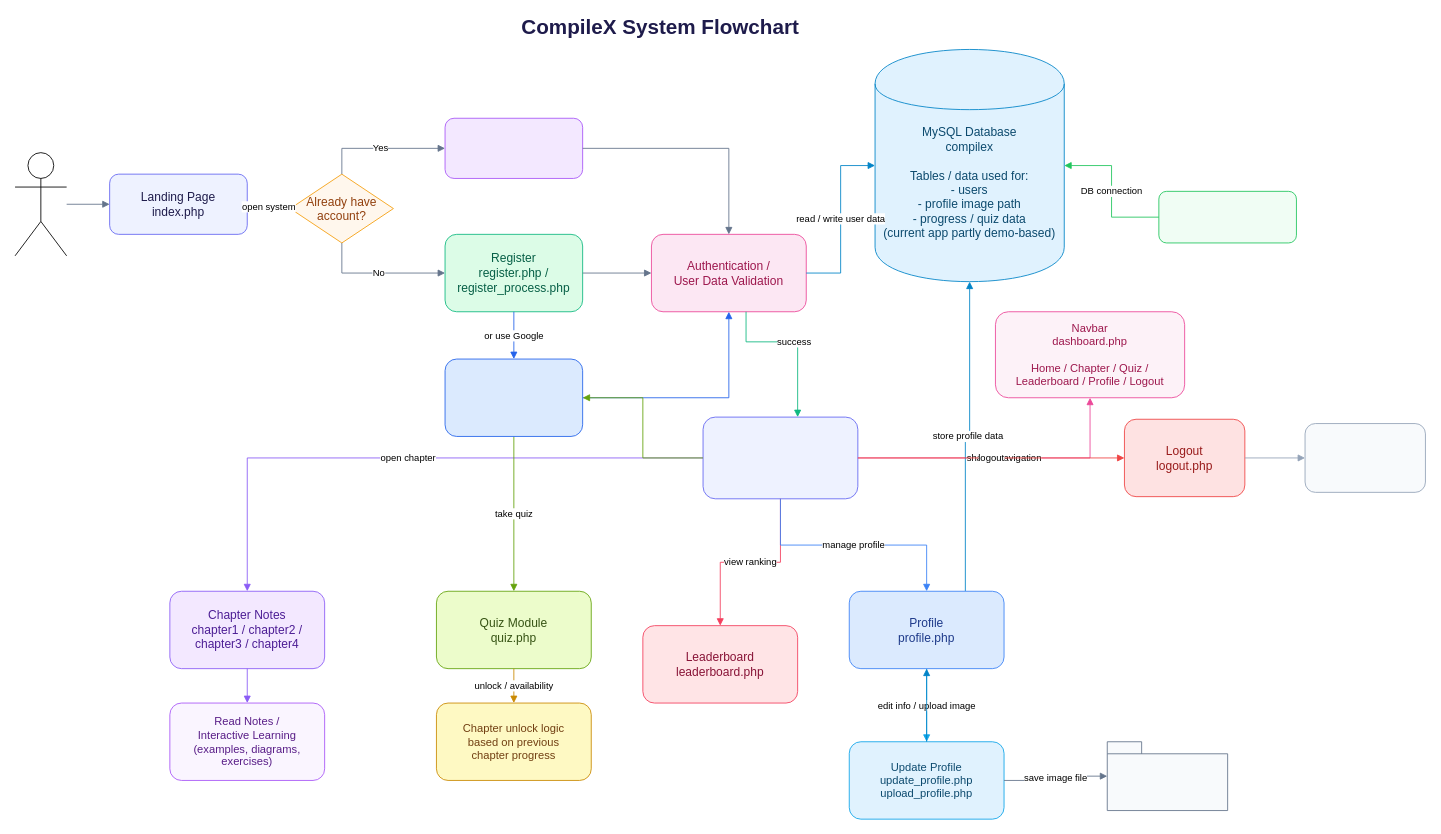
The diagram is 1441 pixels wide and 834 high, and some of its shapes have lost their labels. Here are the shapes that lost their labels. From the top down, the box of each, then its label:
(444, 117, 583, 178): Login login.php
(14, 152, 67, 256): User
(1158, 190, 1296, 243): dbconn.php opens DB connection
(444, 358, 583, 436): Google Login google-login.php google-callback.php
(702, 416, 858, 499): Home Dashboard home.php Main navigation hub
(1304, 423, 1425, 492): Session End / Return to Entry
(1106, 741, 1228, 811): Image Storage images/
